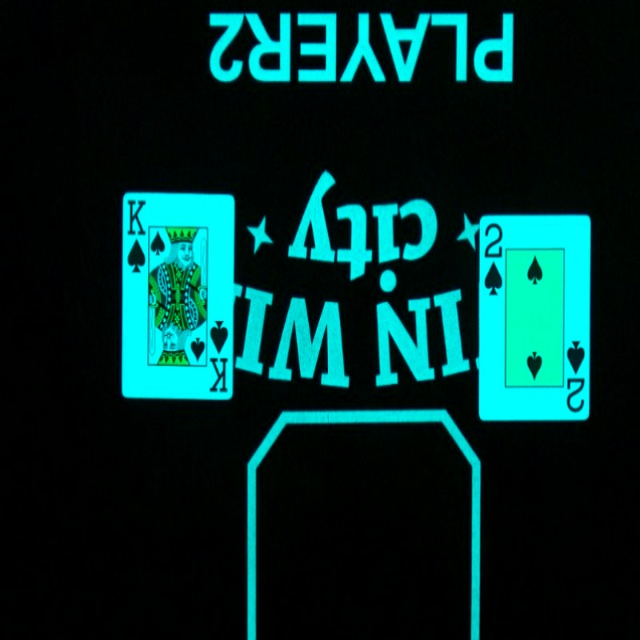2S: (479, 222, 506, 300), (564, 337, 590, 415)
KS: (206, 315, 232, 399), (122, 199, 148, 278)
